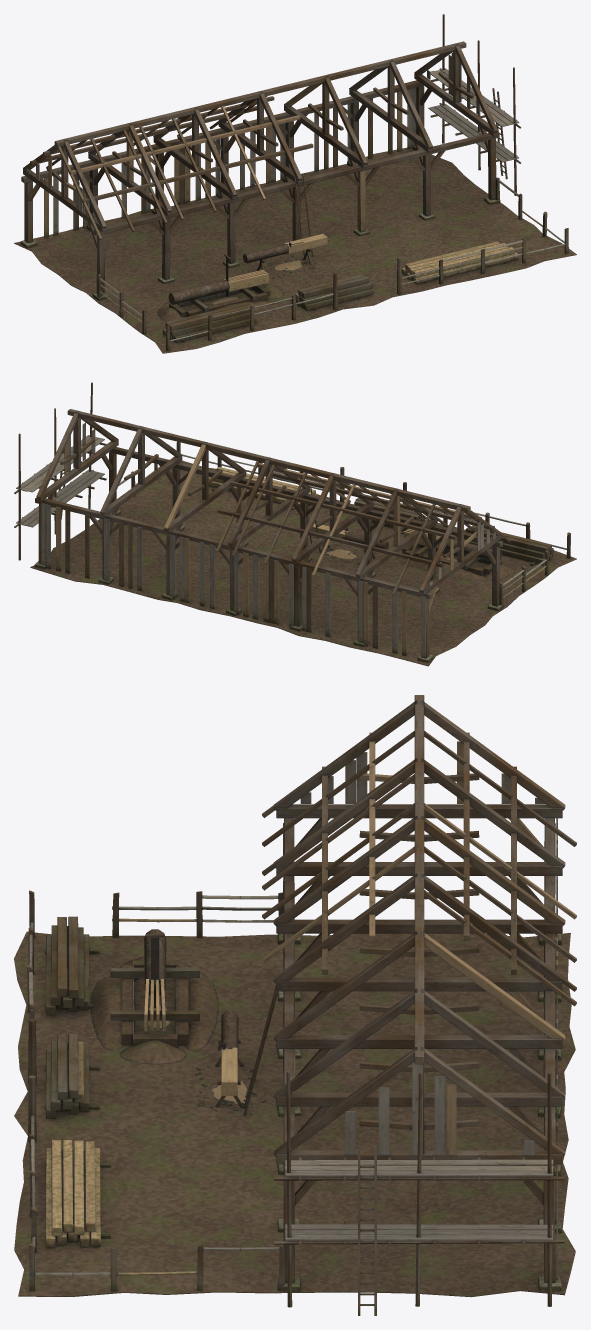
File: siege_workshop_build2.glb
The picture shows the model from 3 angles, top to bottom: view 1: azimuth 30°, elevation 25°; view 2: azimuth 150°, elevation 25°; view 3: azimuth 270°, elevation 25°; orthographic projection. The views are drawn at different scales.
Parts seen in each view (by area): view 1: siege_workshop_build2_LOD0; view 2: siege_workshop_build2_LOD0; view 3: siege_workshop_build2_LOD0.
Boxes of the visible parts, x1=… form: siege_workshop_build2_LOD0: x1=14, y1=14, x2=576, y2=353; siege_workshop_build2_LOD0: x1=14, y1=382, x2=576, y2=666; siege_workshop_build2_LOD0: x1=14, y1=695, x2=576, y2=1315.
Size of what is drawn, in the model's own units: 24.52 by 7.1 by 15.12.
Materials: 1 (1 with a texture image).
